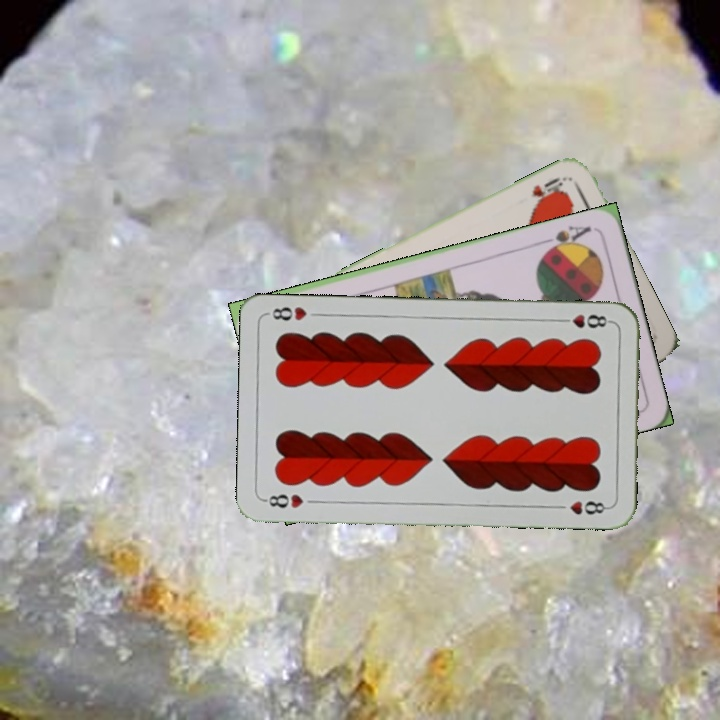H8: (555, 310, 614, 331), (261, 490, 306, 511)
HO: (528, 173, 570, 209)
SA: (537, 221, 594, 256)
